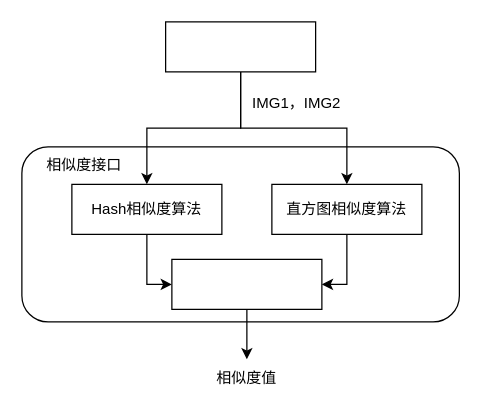
The diagram is 481 pixels wide and 419 high, and some of its shapes have lost their labels. Here are the shapes that lost their labels. From the top down, the centre of each, then its label:
(240,46): 调用
(246,283): AVG
